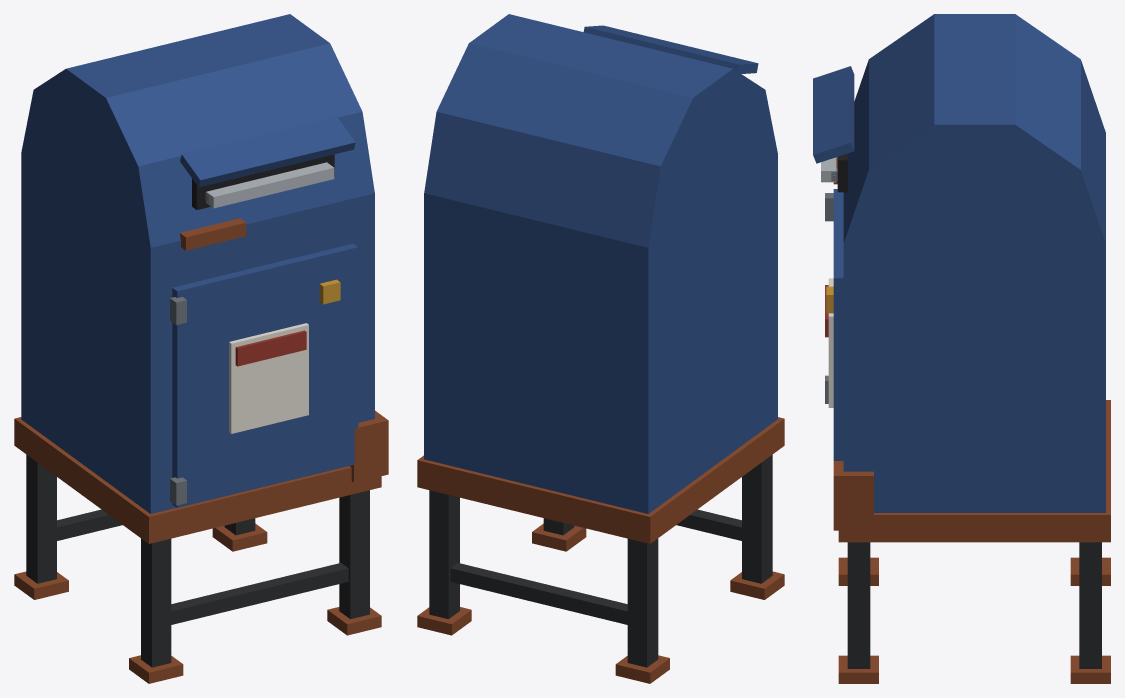
The model's file is mailbox.glb.
3 renders of one model, left to right at view 1: azimuth 30°, elevation 25°; view 2: azimuth 150°, elevation 25°; view 3: azimuth 270°, elevation 25°, orthographic.
Visible parts, largest first — view 1: mailbox; view 2: mailbox; view 3: mailbox.
Boxes of the visible parts, x1=… form: mailbox: x1=14, y1=14, x2=388, y2=683; mailbox: x1=417, y1=14, x2=784, y2=683; mailbox: x1=813, y1=14, x2=1110, y2=683.
Size of what is drawn, in the model's own units: 0.55 by 1.22 by 0.591.
Materials: 2 (2 with a texture image).
